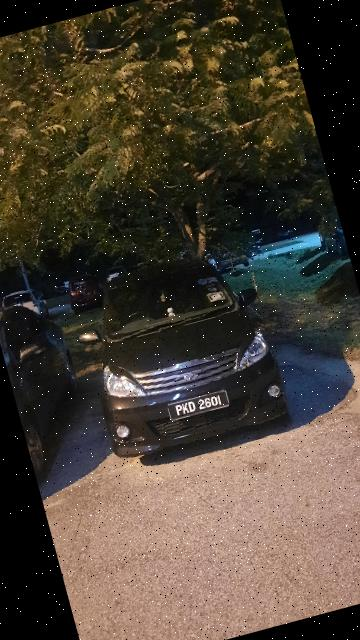License_Plate: (164, 387, 233, 425)
car: (61, 236, 302, 475)
